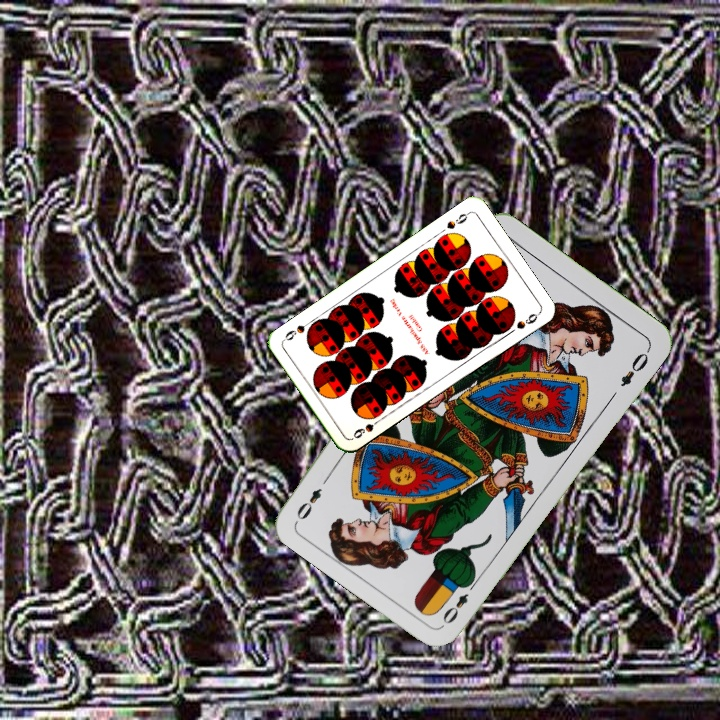EO: (438, 576, 480, 627)
S9: (349, 414, 385, 441), (443, 208, 472, 232)
